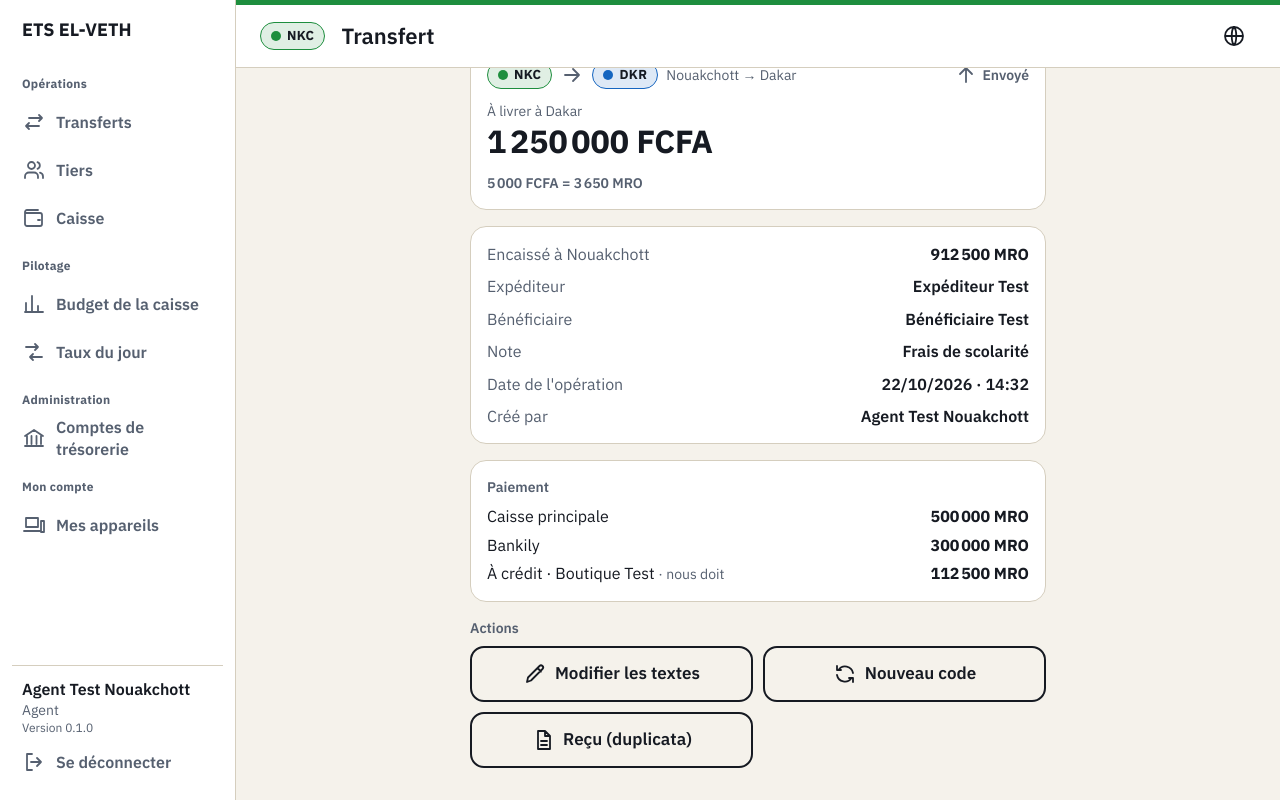
Test case: Fiche d’un transfert — Agent de l’agence d’envoi › modifie les textes avec la version lue sur la fiche
(page scrolled)
Click the button "Modifier les textes" at [612, 674], box [470,646,753,702]
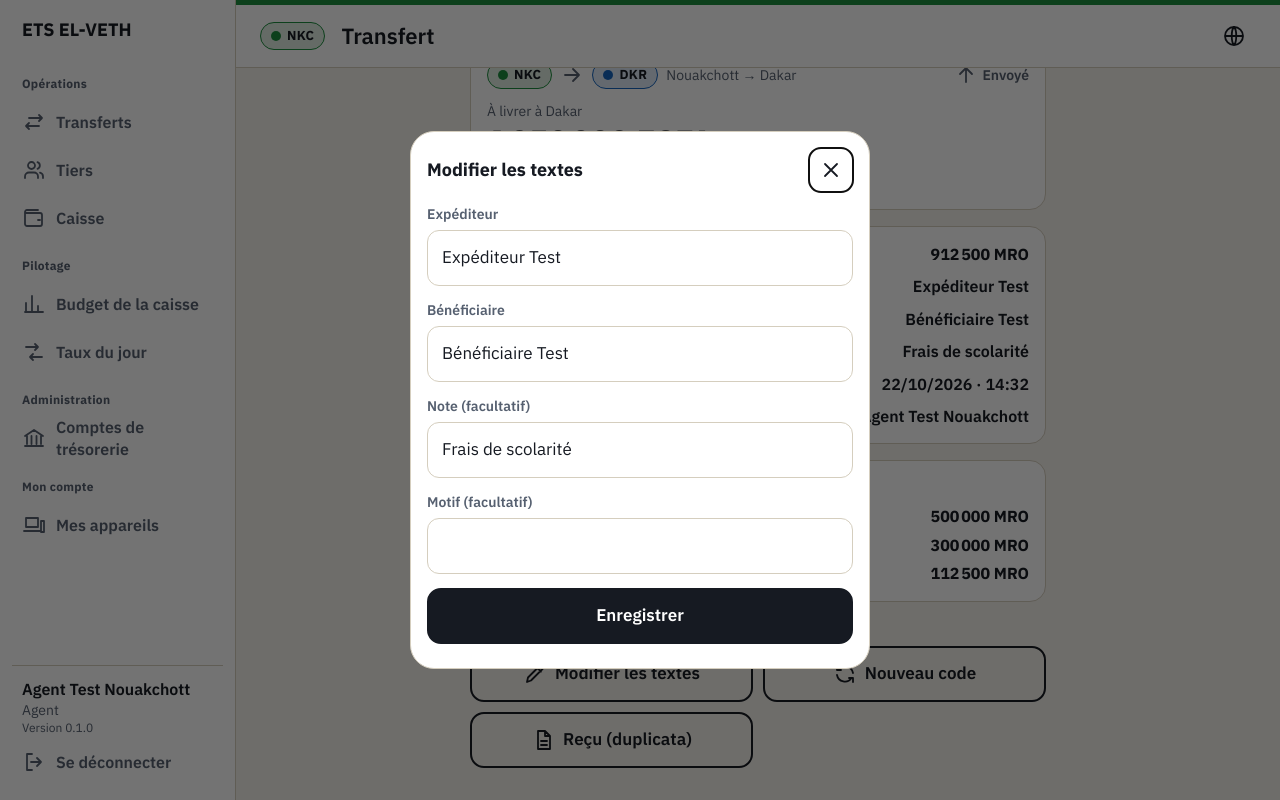
Replace the text in the field labelled "Bénéficiaire" with "Autre bénéficiaire" at [640, 354], box [428,328,852,380]
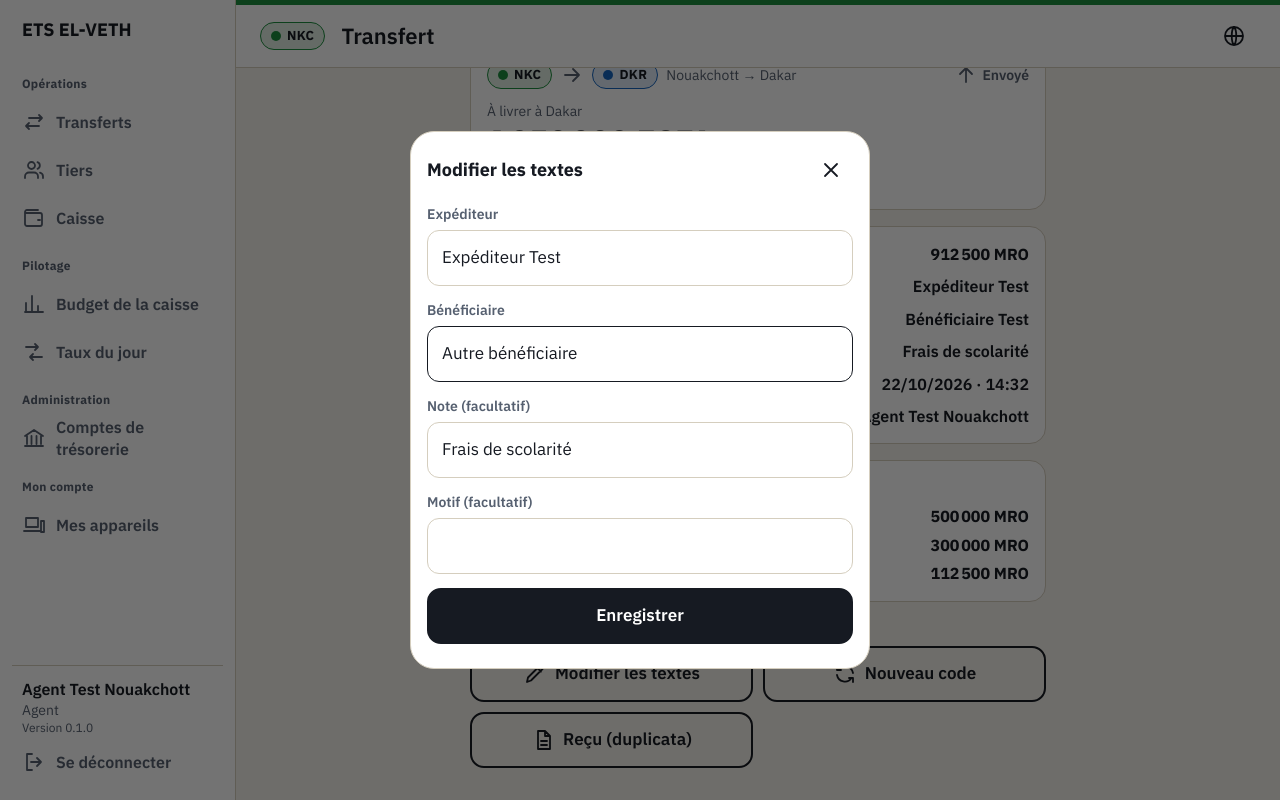
Type "Faute de frappe" into the field labelled "Motif (facultatif)" at [640, 546], box [428,520,852,572]
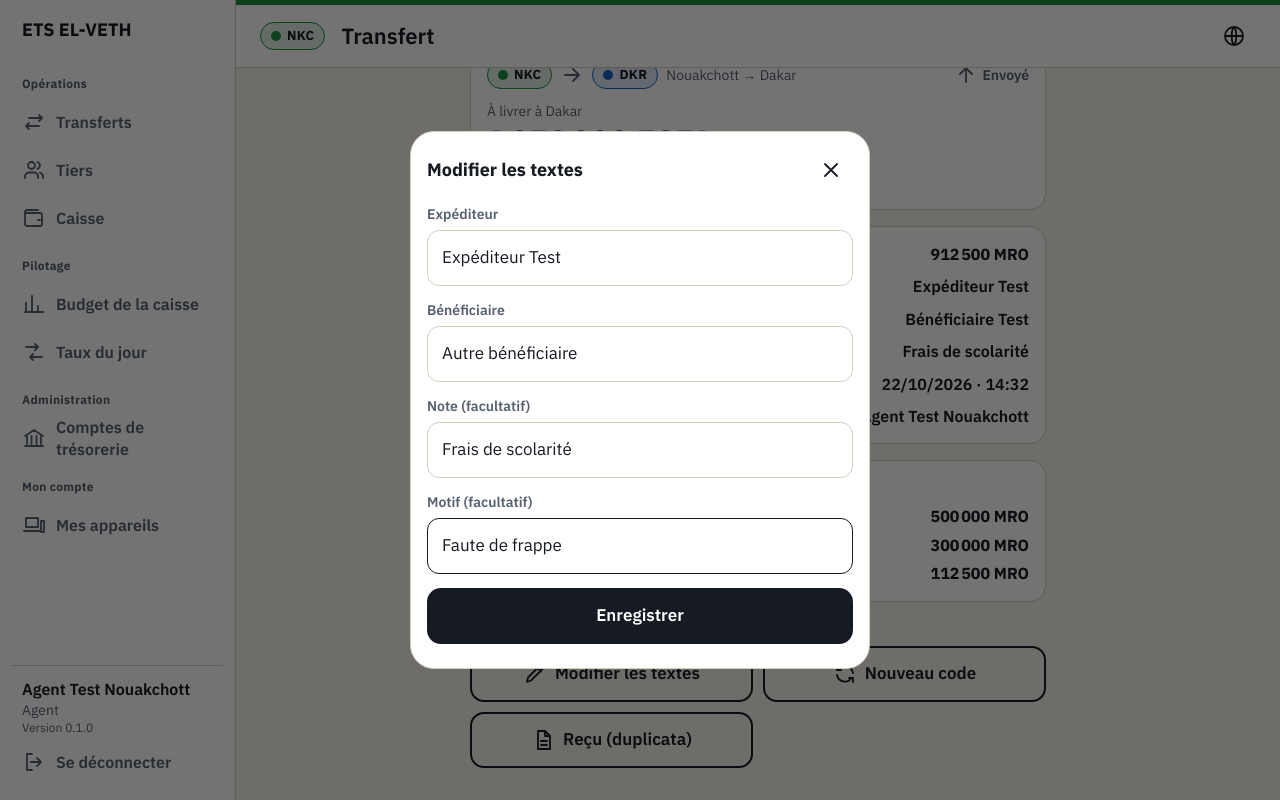
Click the button "Enregistrer" at [640, 616], box [427,588,853,644]
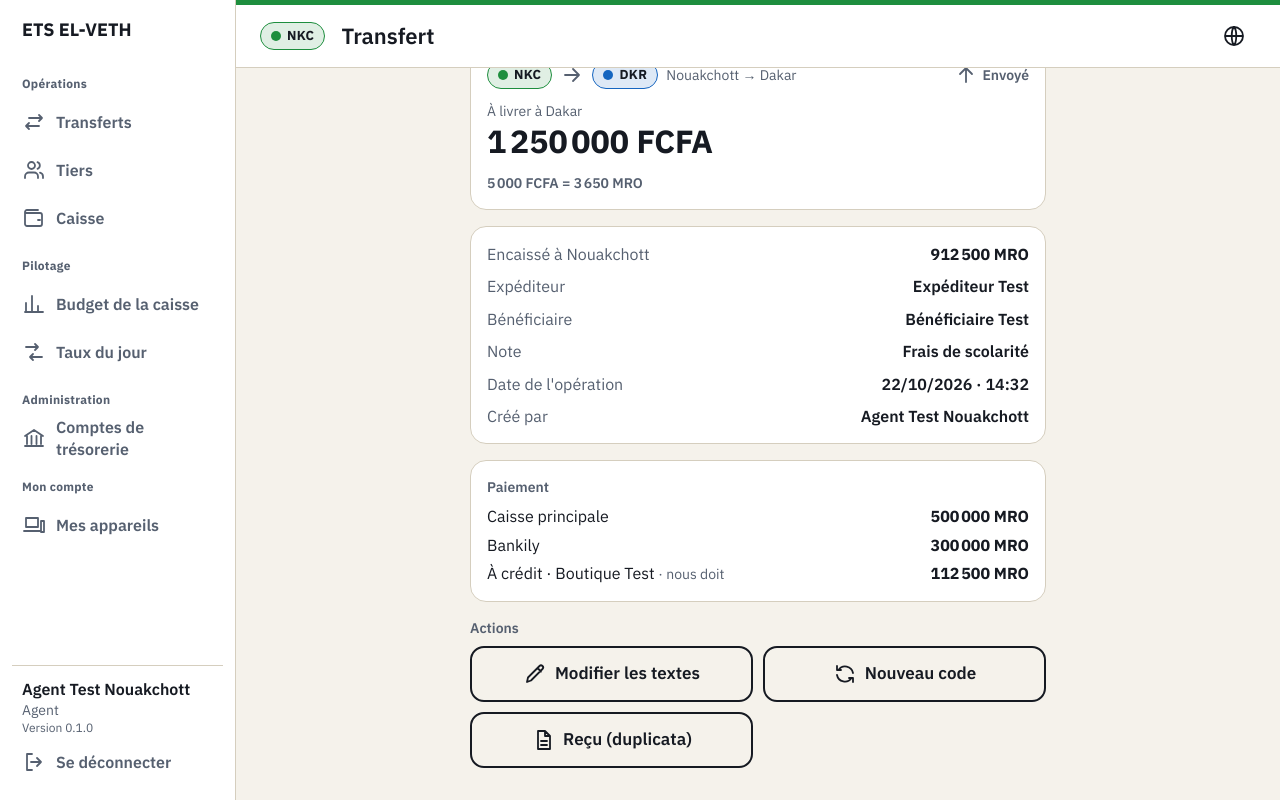
Expected: the dialog is gone
